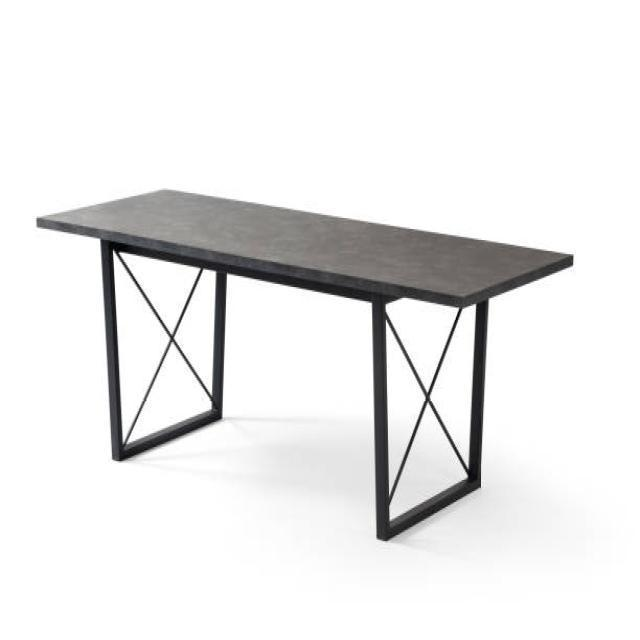table: (34, 185, 574, 541)
